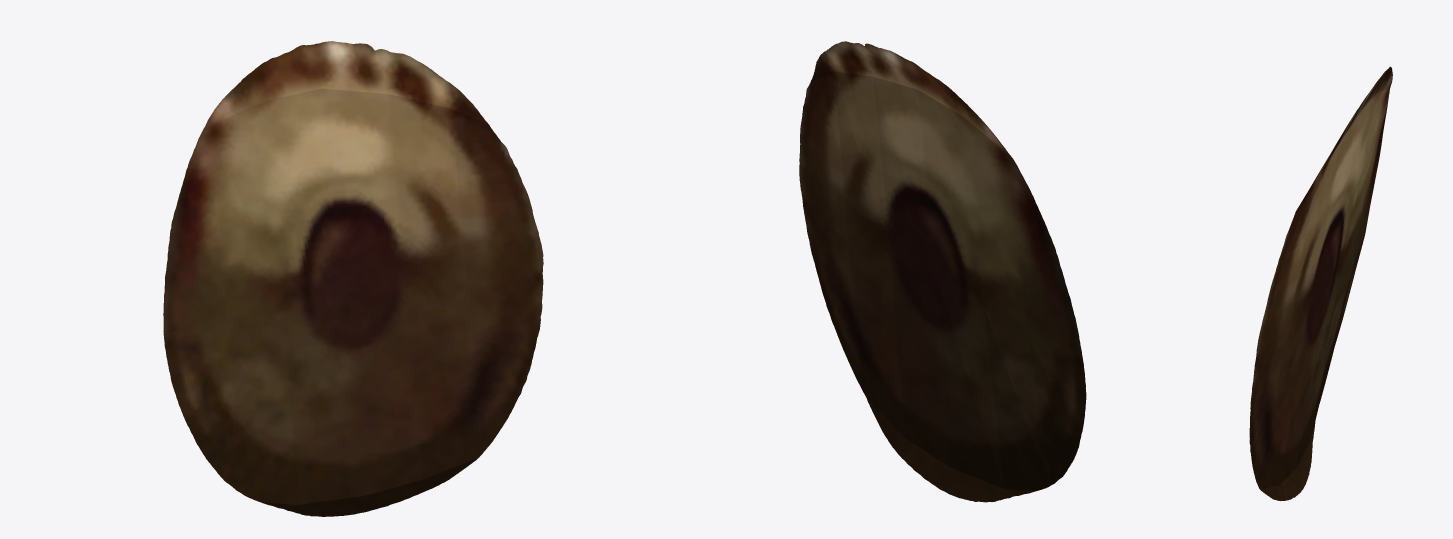
The model's file is source0HOB.obj.
3 renders of one model, left to right at view 1: azimuth 30°, elevation 25°; view 2: azimuth 150°, elevation 25°; view 3: azimuth 270°, elevation 25°, orthographic. The views are drawn at different scales.
Visible parts, largest first — view 1: source0HOB; view 2: source0HOB; view 3: source0HOB.
Boxes of the visible parts, x1,y1,x2,y2 form: source0HOB: (163, 41, 543, 516); source0HOB: (799, 41, 1086, 502); source0HOB: (1249, 66, 1392, 500).
Bounding box in the file's own units: 4.82 × 3.95 × 1.84.
